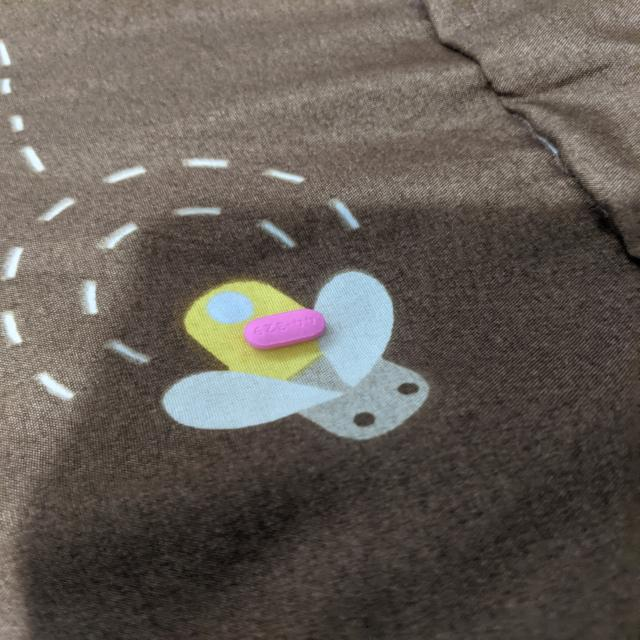non-organic waste: (243, 308, 326, 351)
